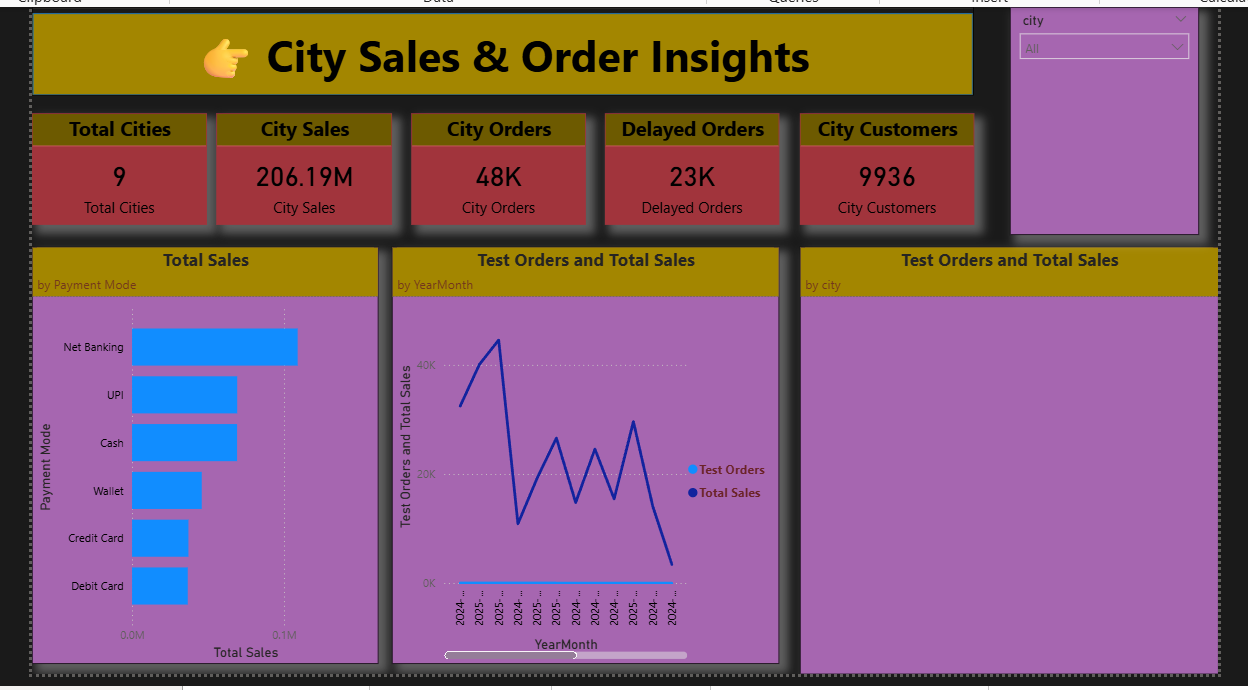

The page's visual inventory and layout, read from the dashboard file:
{"tool":"powerbi","page":{"name":"city sales & order insight","canvas":[1280,720],"ordinal":4},"visuals":[{"type":"card","title":"Total Cities","fields":{"Values":["All_measures.Total Cities"]},"box":[0,115,188.3,120],"z":0},{"type":"card","title":"City Orders","fields":{"Values":["All_measures.City Orders"]},"box":[409.7,115,187.8,119.8],"z":1000},{"type":"card","title":"City Sales","fields":{"Values":["All_measures.City Sales"]},"box":[199.2,115,189.4,119.8],"z":2000},{"type":"card","title":"City Customers","fields":{"Values":["All_measures.City Customers"]},"box":[829,115,187.8,119.8],"z":3000},{"type":"card","title":"Delayed Orders","fields":{"Values":["All_measures.Delayed Orders"]},"box":[618.5,115,187.8,119.8],"z":4000},{"type":"barChart","fields":{"Y":["All_measures.Total Sales"],"Category":["orders.Payment Mode"]},"box":[0,259.1,374,450.1],"z":5000},{"type":"lineChart","fields":{"Category":["orders.YearMonth"],"Y":["All_measures.Test Orders","All_measures.Total Sales"]},"box":[388.6,259.1,417.8,450.1],"z":6000},{"type":"map","fields":{"Size":["All_measures.Test Orders"],"Category":["restaurants.city"]},"box":[829,259.1,451.8,461.5],"z":7000},{"type":"slicer","fields":{"Values":["restaurants.city"]},"box":[1055.7,0,204,246.1],"z":8000},{"type":"shape","box":[0,0,1016.9,95.5],"z":9000}]}

Visuals, with their boxes in screenshot pixels (x1, y1, x2, y2):
"Total Cities" card: (left=26, top=112, right=204, bottom=225)
"City Orders" card: (left=413, top=112, right=590, bottom=225)
"City Sales" card: (left=214, top=112, right=393, bottom=225)
"City Customers" card: (left=808, top=112, right=986, bottom=225)
"Delayed Orders" card: (left=610, top=112, right=787, bottom=225)
barChart - All_measures.Total Sales x orders.Payment Mode: (left=26, top=248, right=379, bottom=673)
lineChart - orders.YearMonth x All_measures.Test Orders: (left=393, top=248, right=787, bottom=673)
map - All_measures.Test Orders x restaurants.city: (left=808, top=248, right=1235, bottom=683)
slicer - restaurants.city: (left=1022, top=3, right=1215, bottom=235)
shape: (left=26, top=3, right=986, bottom=93)
